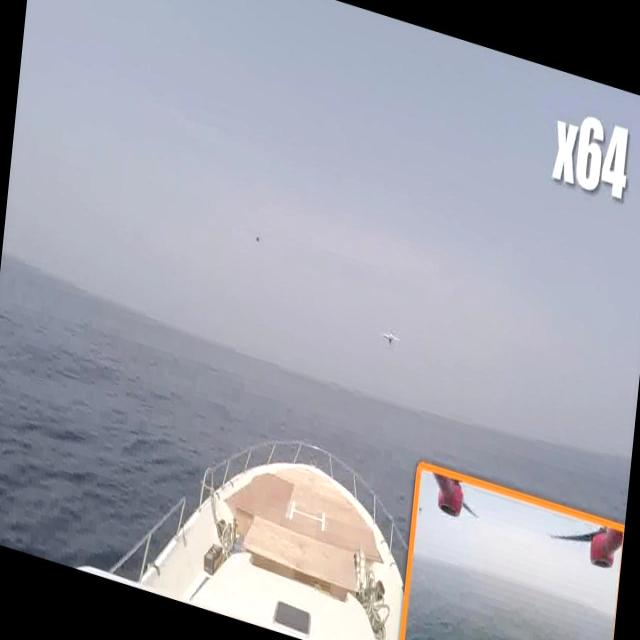drone: (379, 324, 407, 351)
